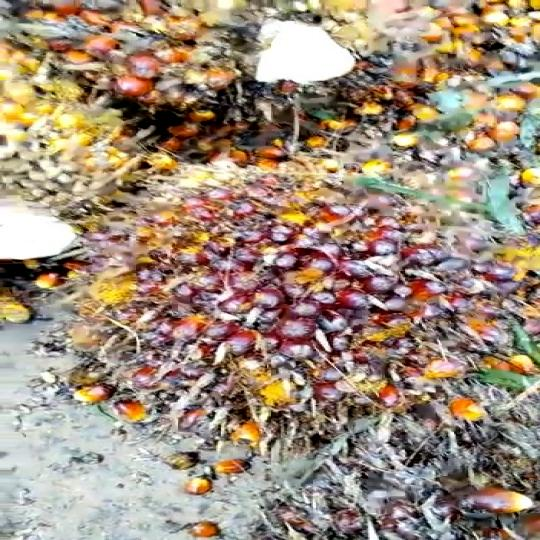masak: (68, 144, 540, 448), (308, 2, 540, 179), (0, 0, 290, 122)
